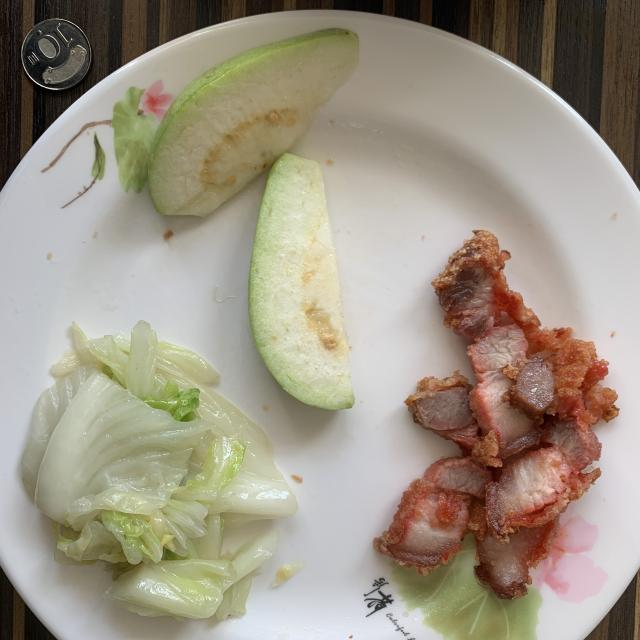cabbage: (21, 321, 298, 620)
coin: (21, 19, 91, 90)
guava -sliced-: (148, 29, 359, 409)
red grilled pork: (374, 231, 619, 599)
